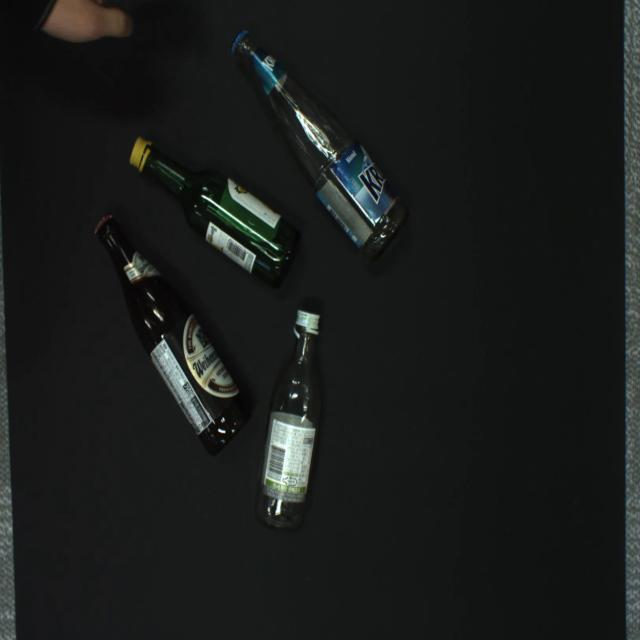beer-bottle: (231, 29, 411, 262), (95, 215, 252, 455)
soju-bottle: (130, 139, 299, 288), (254, 310, 322, 533)
